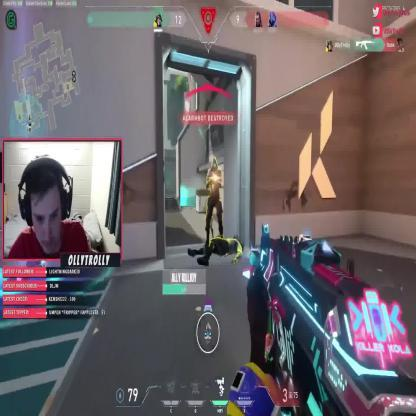enemy: (206, 156, 224, 246), (206, 209, 214, 240)
enemy_head: (210, 156, 218, 172)
